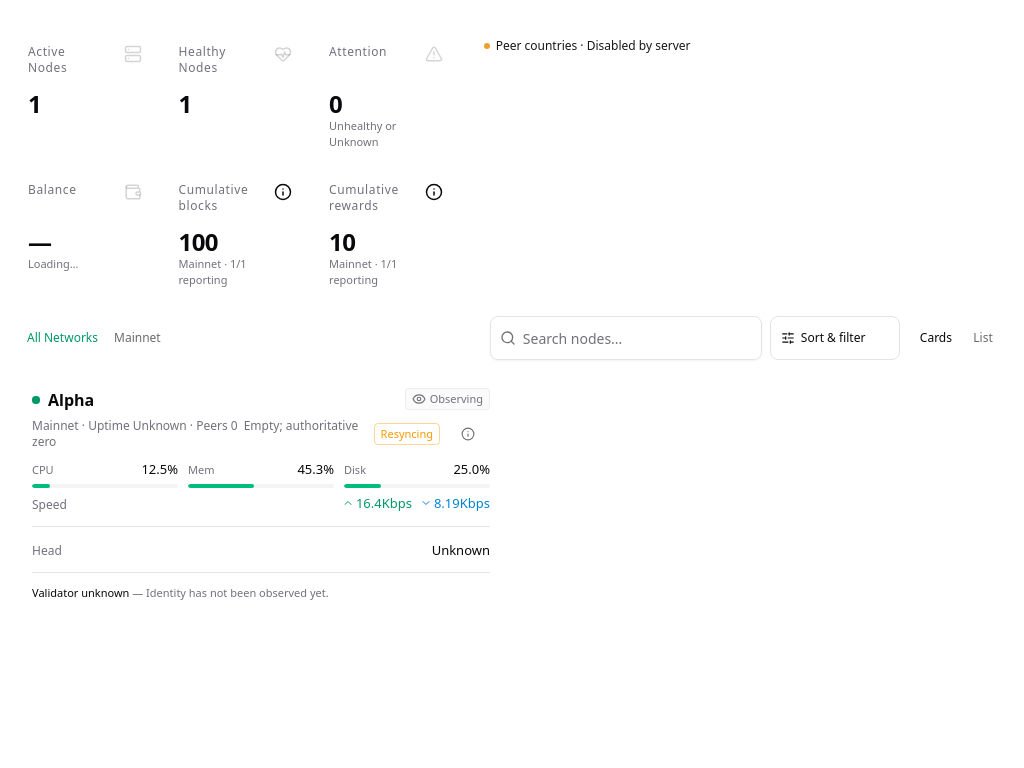
Scenario: Public Home dashboard › renders resync heights safely: Unknown / 100 (null)
The image size is (1024, 768).
Click the button "Resyncing".
click(407, 434)  # box [374,412,440,456]
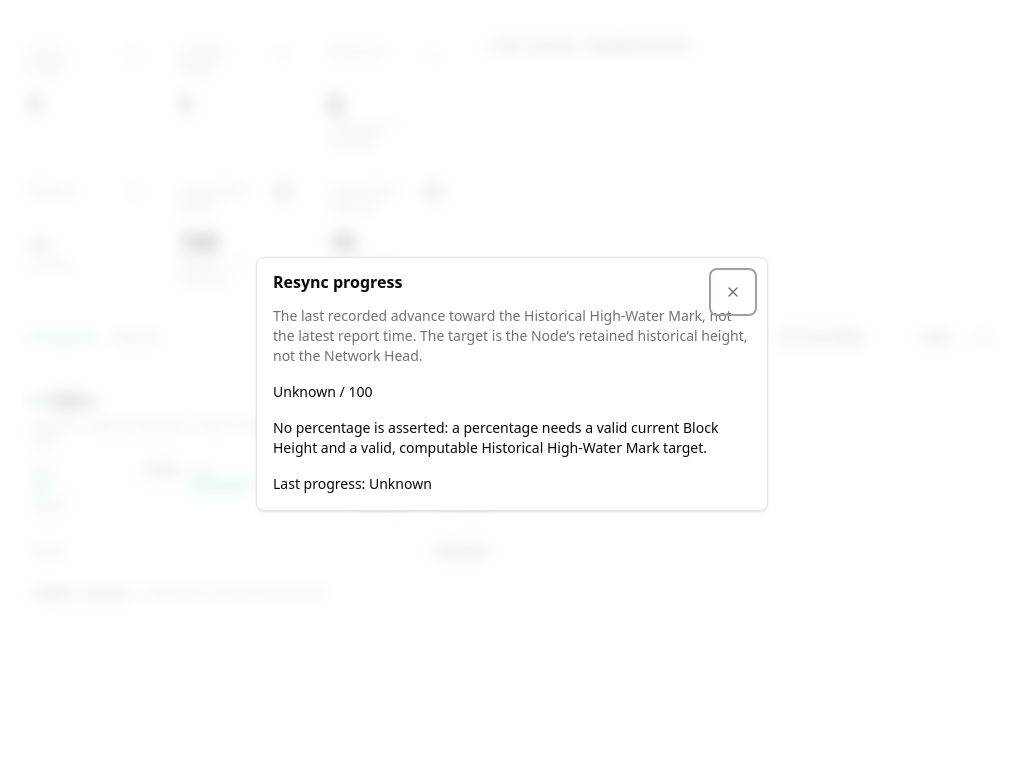
Result: the text "Unknown / 100" is shown at [273,382,372,401]
Result: the text "No percentage is asserted" is shown at [273,418,718,457]
